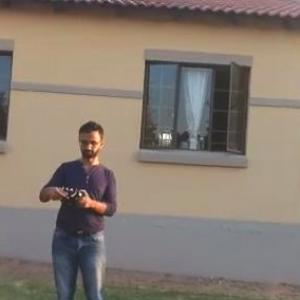follow: (33, 114, 122, 299)
